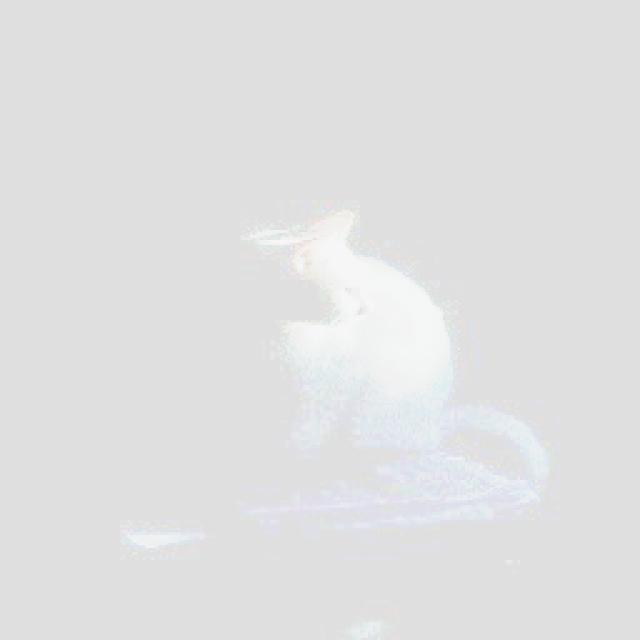cat: (220, 184, 582, 512)
